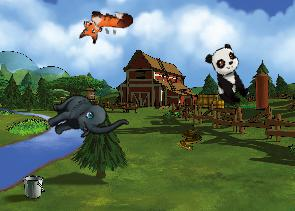elephant: (41, 76, 129, 160)
fox: (78, 7, 133, 47)
panda: (202, 42, 254, 109)
